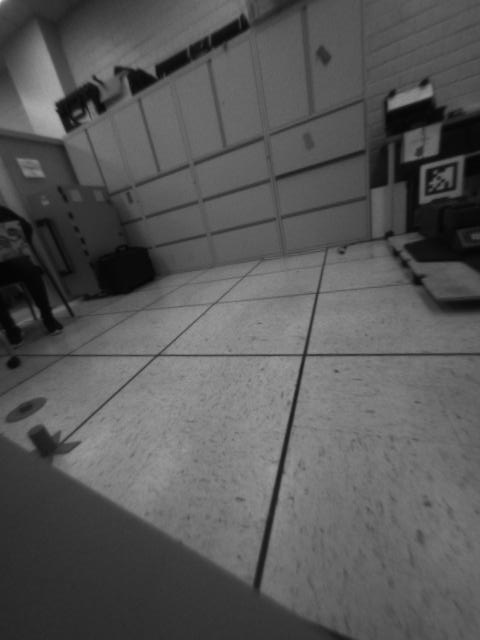X: (21, 425, 83, 456)
